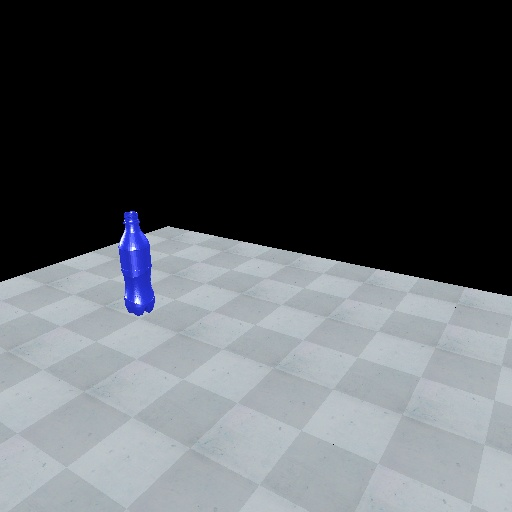bottle: (114, 209, 158, 316)
